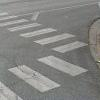Crosswalk: (4, 7, 77, 100)
